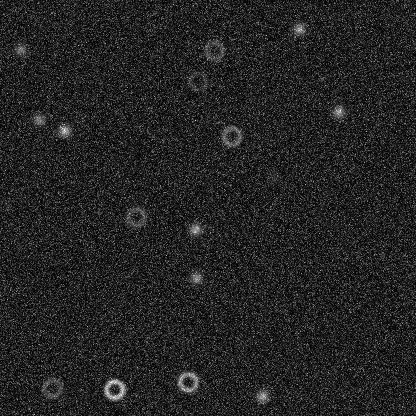Ring: (219, 124, 243, 148), (185, 69, 209, 93), (123, 205, 147, 229), (40, 376, 64, 400), (175, 369, 199, 393), (202, 38, 226, 62), (102, 377, 126, 401)
Spot: (330, 103, 346, 119), (265, 168, 281, 184), (56, 122, 72, 138), (188, 269, 204, 285), (31, 111, 47, 127), (12, 41, 28, 57), (291, 21, 307, 37), (254, 388, 270, 404), (187, 221, 203, 237)
